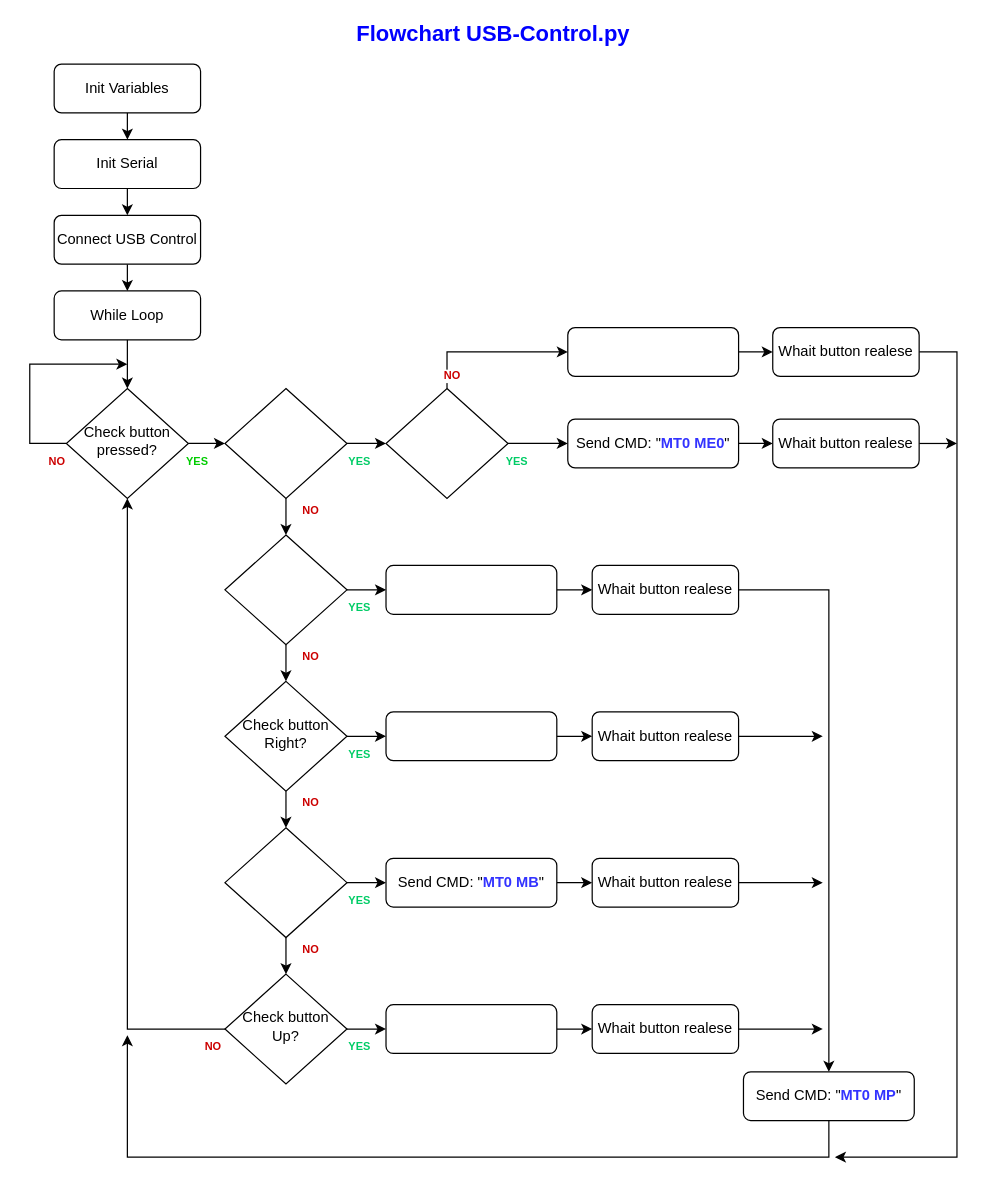
Some shapes in this 988 by 1188 pixel diagram are drawn without their labels. Each missing label, with the centre of its shape:
Check button Down?: (x=285, y=882)
Check button Left?: (x=285, y=589)
Check button Start?: (x=285, y=442)
If Started?: (x=446, y=442)
Send CMD: " MT0 ME1 ": (x=653, y=351)
Send CMD: " MT0 MF ": (x=471, y=1028)
Send CMD: " MT0 ML ": (x=471, y=589)
Send CMD: " MT0 MR ": (x=471, y=736)
